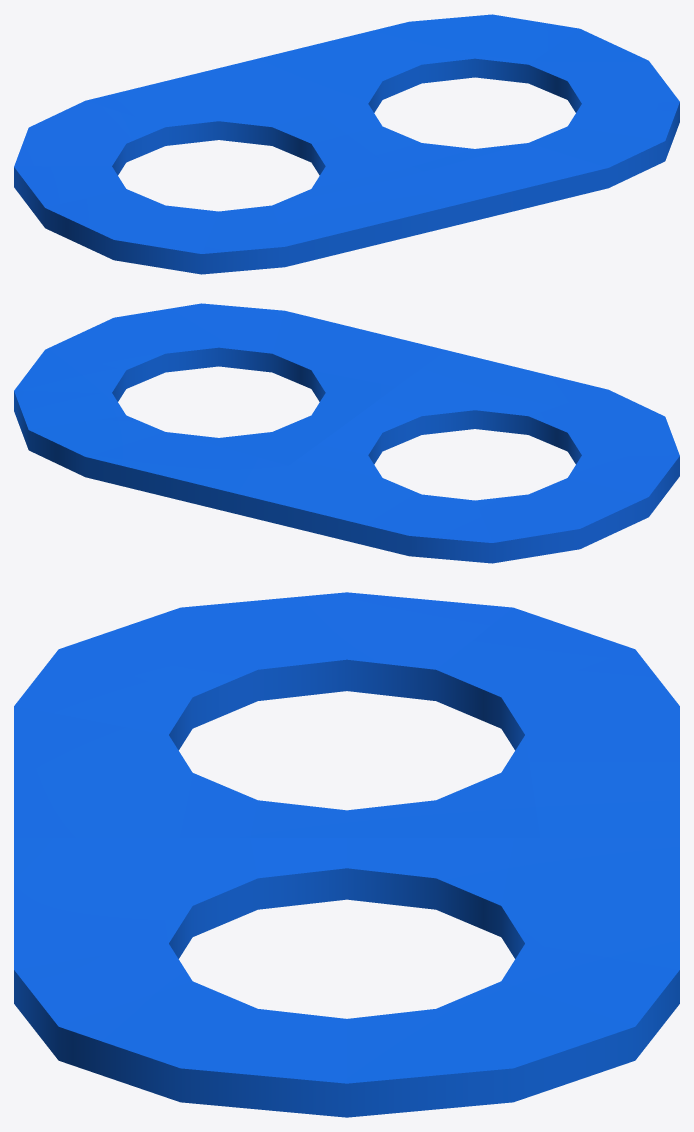
File: TwoLongBlue.fbx
3 renders of one model, top to bottom at view 1: azimuth 30°, elevation 25°; view 2: azimuth 150°, elevation 25°; view 3: azimuth 270°, elevation 25°, orthographic. The views are drawn at different scales.
Visible parts, largest first — view 1: Blue2; view 2: Blue2; view 3: Blue2.
Boxes of the visible parts, x1,y1,x2,y2 form: Blue2: [14, 14, 679, 274]; Blue2: [14, 303, 679, 563]; Blue2: [14, 592, 679, 1117].
Bounding box in the file's own units: 6.02 × 0.1942 × 3.45.
